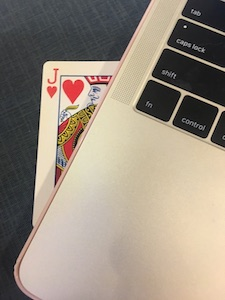JackOfHearts: (33, 56, 118, 234)
